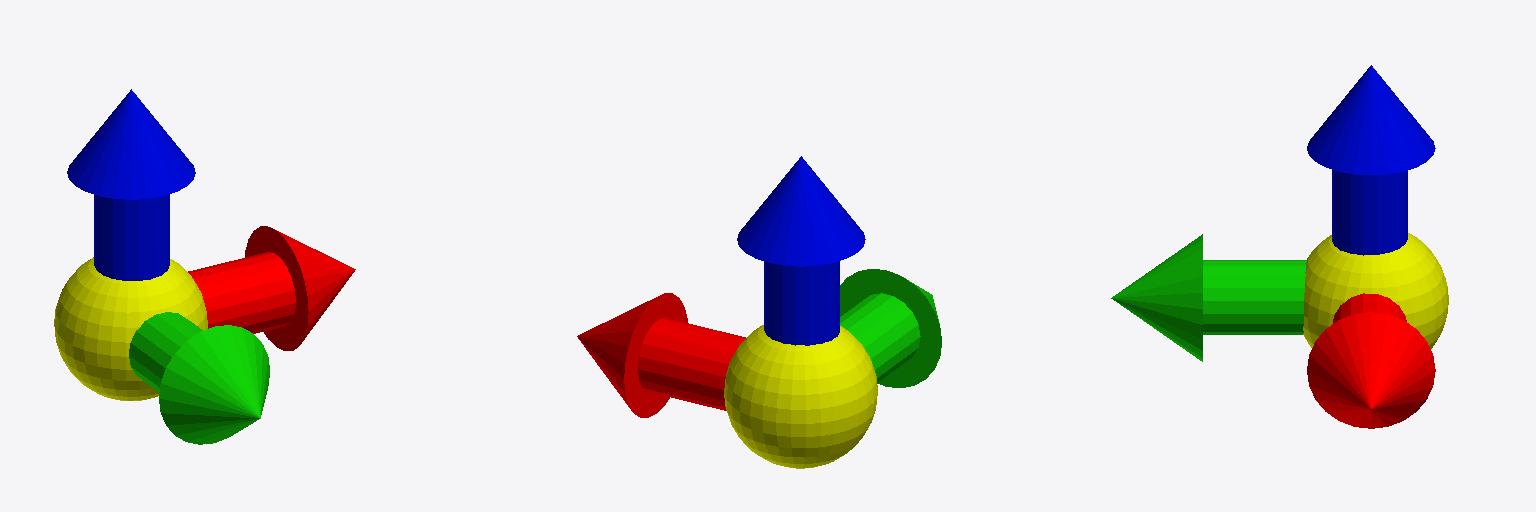
The model's file is axes.obj.
3 views of the same model, side by side, from view 1: azimuth 30°, elevation 25°; view 2: azimuth 150°, elevation 25°; view 3: azimuth 270°, elevation 25° (orthographic).
Visible parts, largest first — view 1: Sphere001, Cone003, Cone001, Cylinder002, Cylinder001, Cone002, Cylinder003; view 2: Sphere001, Cone001, Cylinder002, Cylinder001, Cone002, Cone003, Cylinder003; view 3: Cone002, Sphere001, Cone001, Cylinder003, Cylinder001, Cone003, Cylinder002.
Part boxes in pixels (left/top/right/bottom): Sphere001: left=54, top=257, right=207, bottom=400; Cone003: left=159, top=325, right=269, bottom=444; Cone001: left=67, top=89, right=195, bottom=199; Cylinder002: left=188, top=252, right=295, bottom=333; Cylinder001: left=94, top=194, right=169, bottom=280; Cone002: left=245, top=226, right=355, bottom=350; Cylinder003: left=129, top=312, right=202, bottom=391; Sphere001: left=724, top=325, right=877, bottom=468; Cone001: left=737, top=156, right=865, bottom=266; Cylinder002: left=638, top=318, right=745, bottom=410; Cylinder001: left=764, top=261, right=839, bottom=345; Cone002: left=577, top=293, right=687, bottom=417; Cone003: left=840, top=269, right=941, bottom=387; Cylinder003: left=840, top=293, right=920, bottom=382; Cone002: left=1307, top=312, right=1435, bottom=428; Sphere001: left=1303, top=233, right=1448, bottom=348; Cone001: left=1307, top=65, right=1435, bottom=174; Cylinder003: left=1203, top=260, right=1306, bottom=334; Cylinder001: left=1332, top=170, right=1407, bottom=255; Cone003: left=1111, top=234, right=1202, bottom=361; Cylinder002: left=1333, top=293, right=1406, bottom=323.
Bounding box in the file's own units: 25.52 × 25.54 × 25.63.